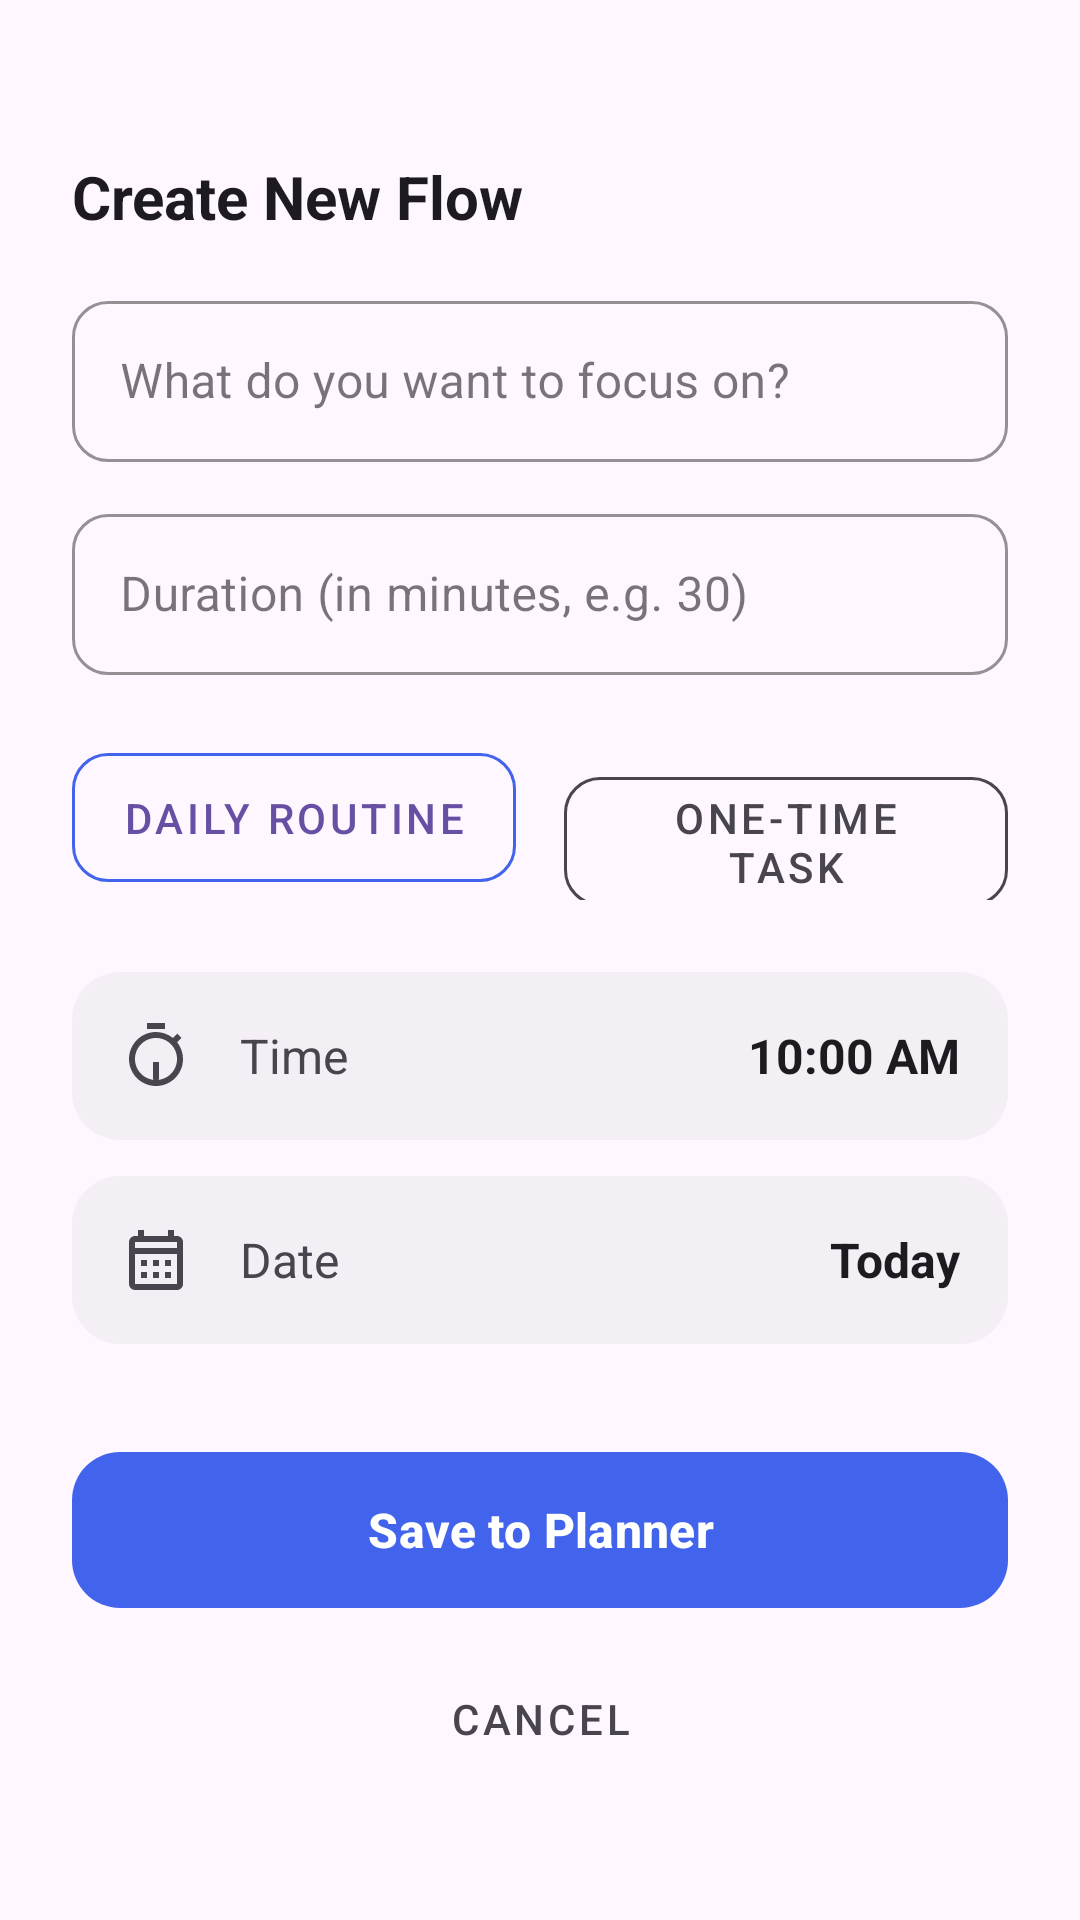

Locate icon controls on the screen. Image size 1080 x 1920, boxes as (x1, y1, x2, y2).
calendar: (129, 1230, 183, 1290)
